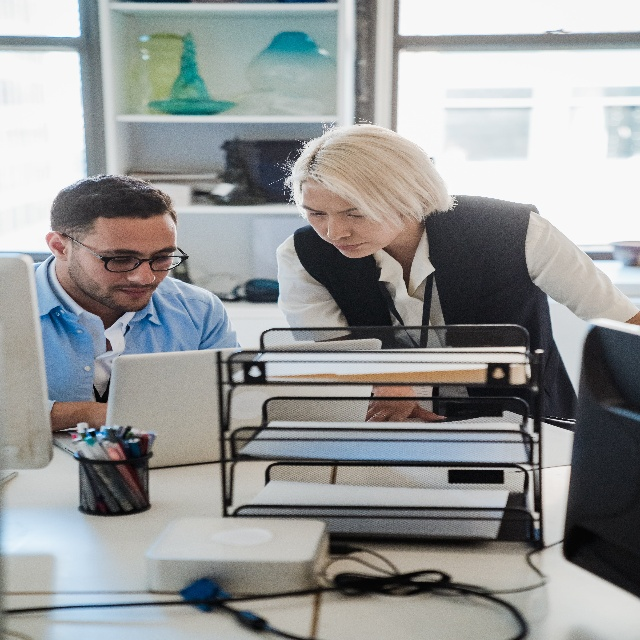Gafas: (65, 232, 188, 276)
Sin_guantes: (363, 391, 446, 428)
